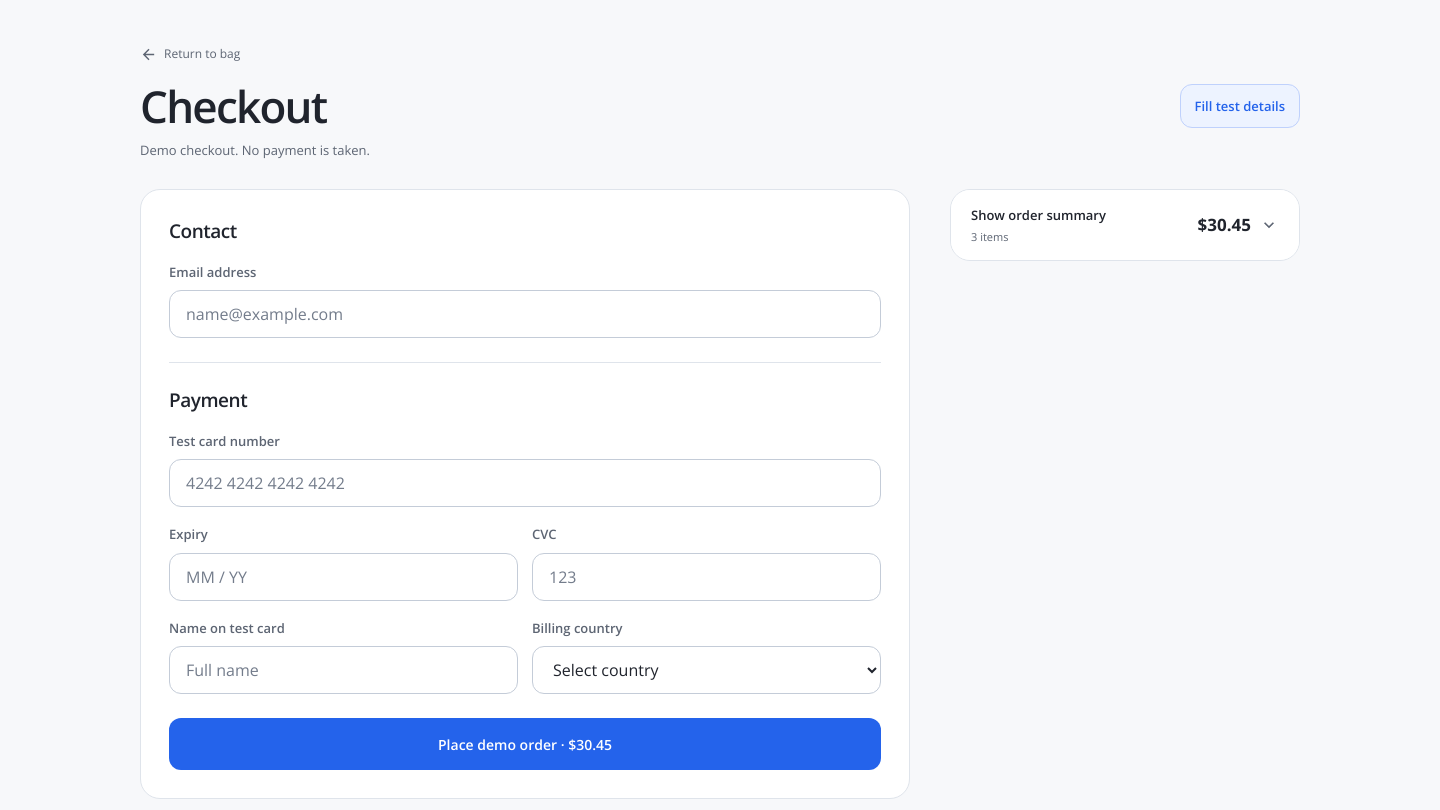
Test: mobile summary starts collapsed with its total visible and preserves form input when toggled
Later steps or results of the test are not shown.
Expected: the button "Show order summary 3 items $30.45" is shown, left=951, top=190, right=1299, bottom=260
Type "reader@example.com" into the field labelled "Email address". click: [525, 314]
box: left=169, top=290, right=881, bottom=338
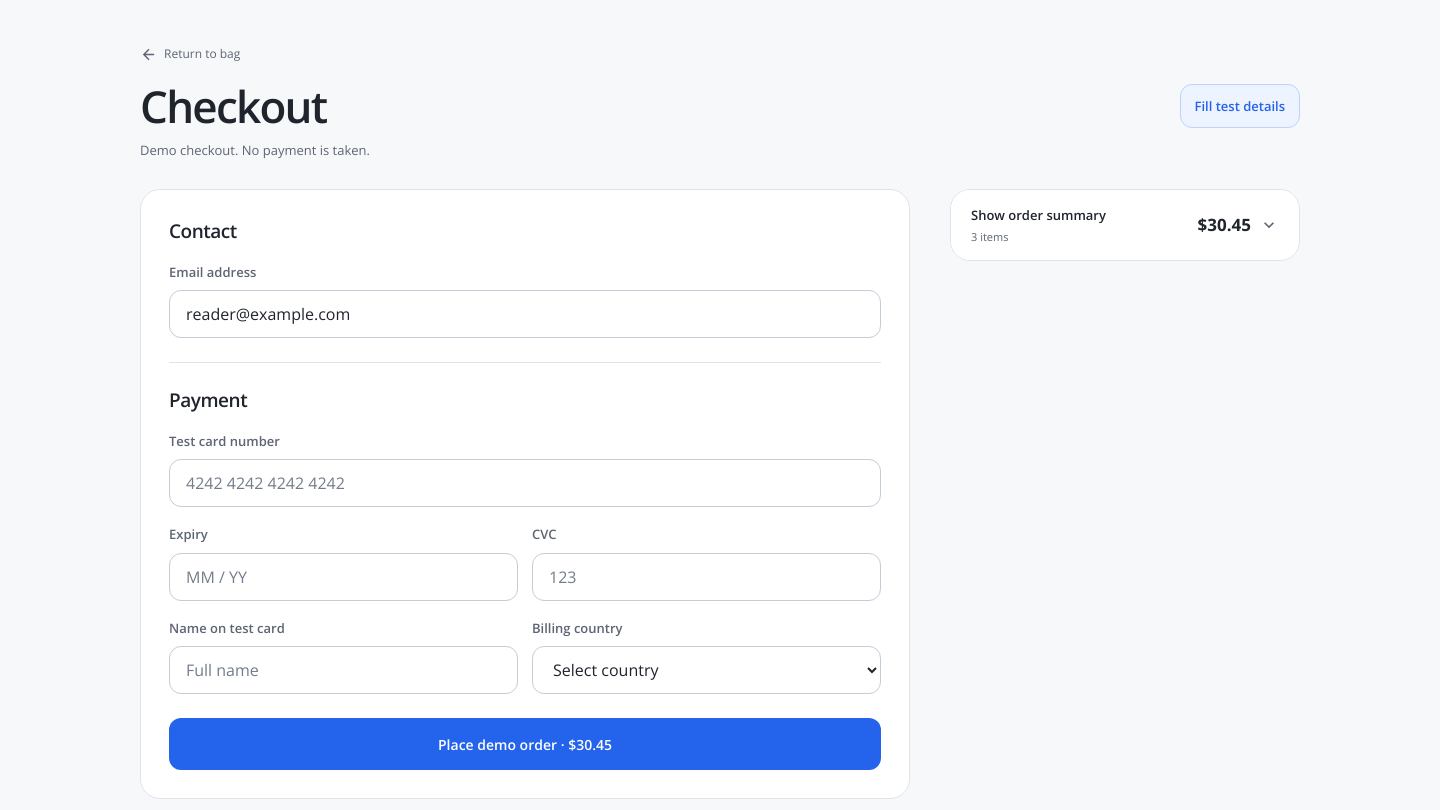
Click the button "Show order summary 3 items $30.45". click: [1038, 215]
box: left=951, top=190, right=1299, bottom=260
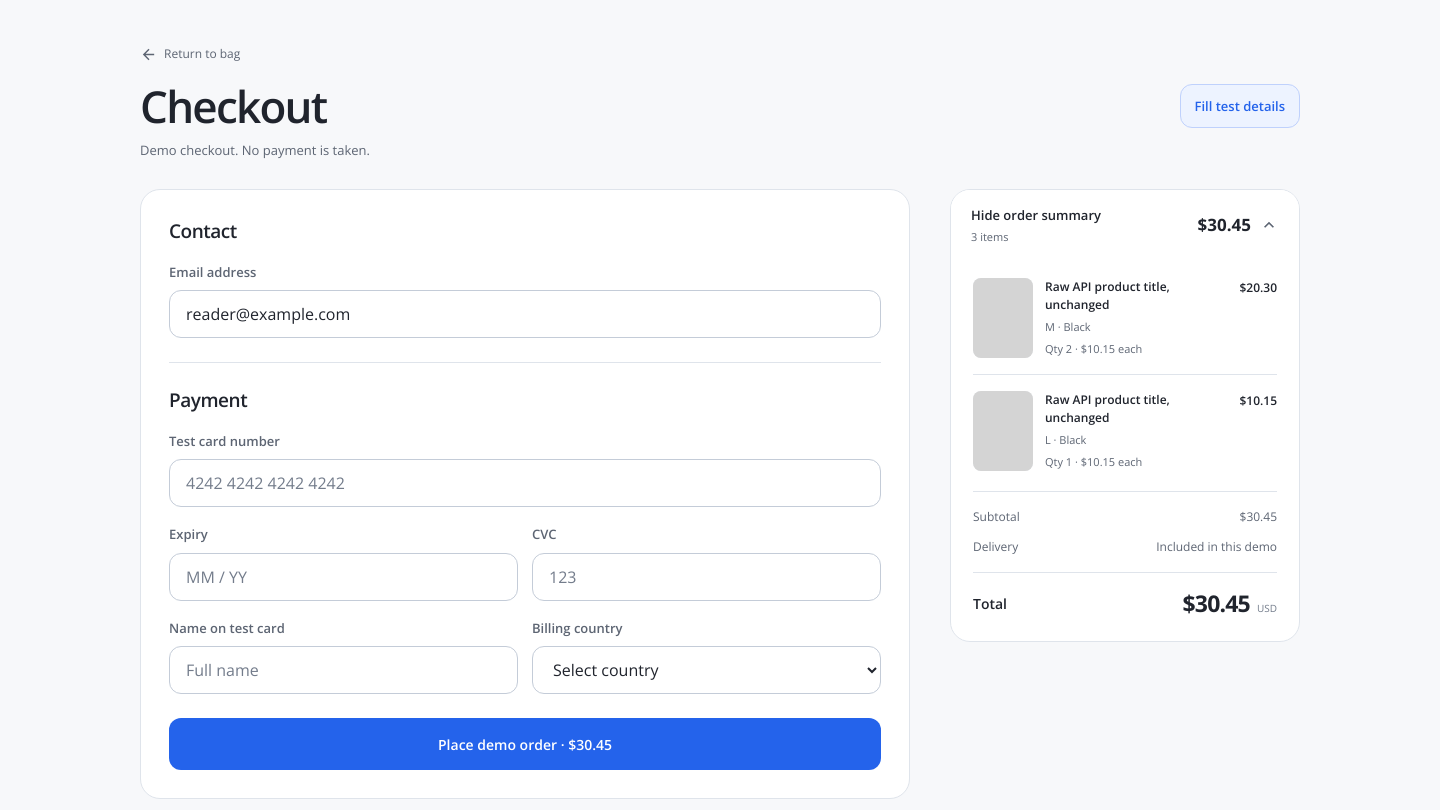
Expected: the button named "Show order summary" is expanded, left=951, top=190, right=1299, bottom=260
Expected: the button named "Show order summary" shows "Hide order summary", left=951, top=190, right=1299, bottom=260
Expected: the number of list items is 2, left=973, top=278, right=1277, bottom=375; left=973, top=375, right=1277, bottom=471
